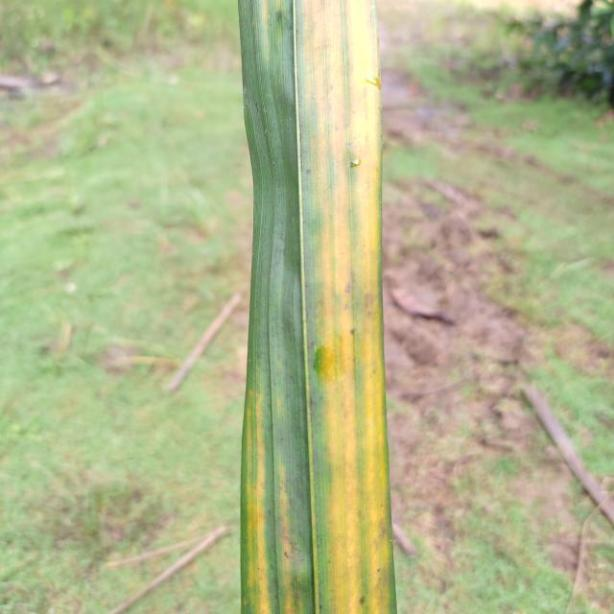Megnesium: (235, 0, 398, 614)
